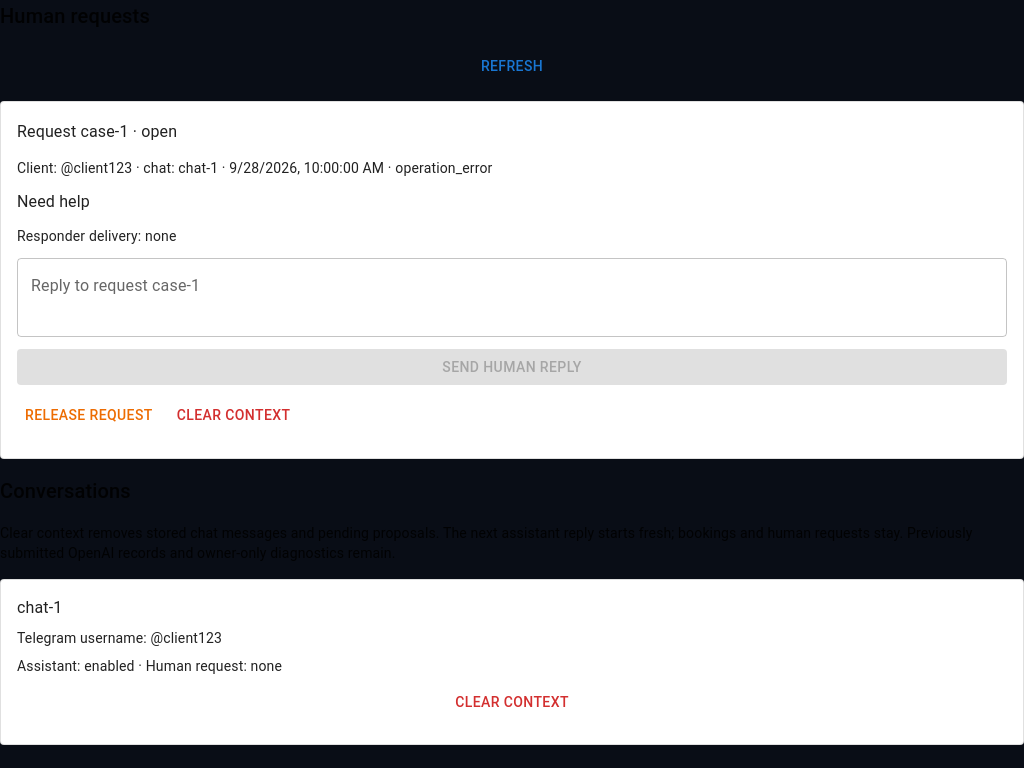
Test: clears context beside request release and reports removed message count
Expected: the heading "Request case-1 · open" is shown, top-left (17, 122), bottom-right (177, 140)
Click the button "Clear context" below "Reply to request case-1" at [234, 415], box top-left (169, 397), bottom-right (298, 434)
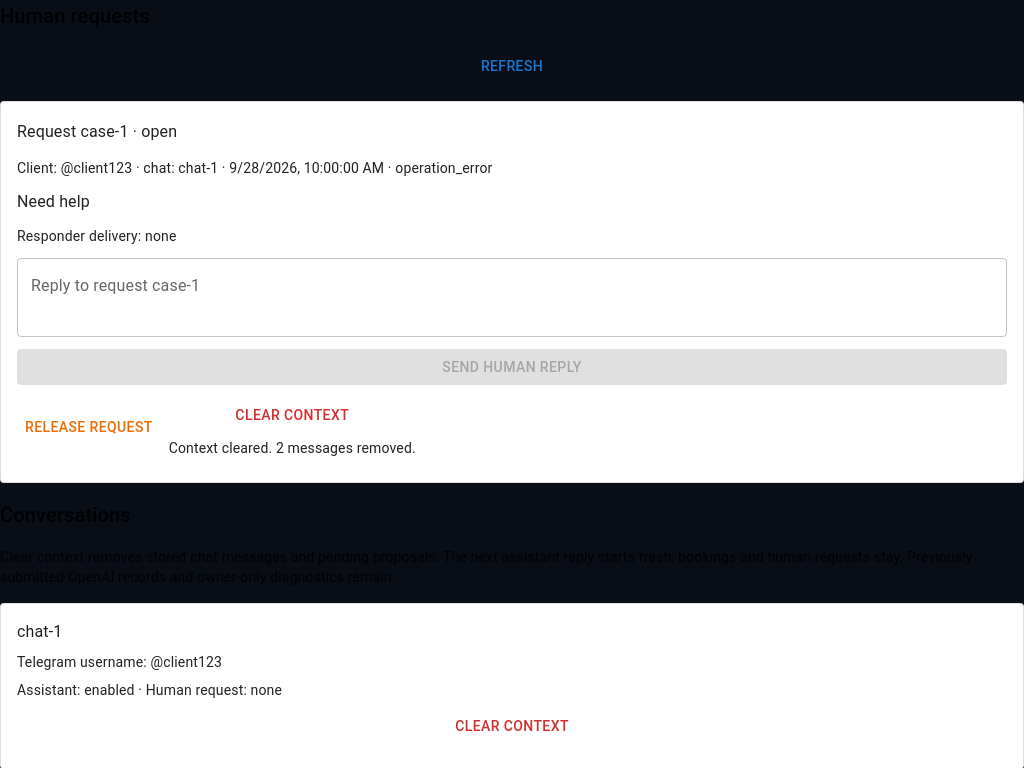
Expected: the text "Context cleared. 2 messages removed." is shown, top-left (169, 438), bottom-right (416, 458)
